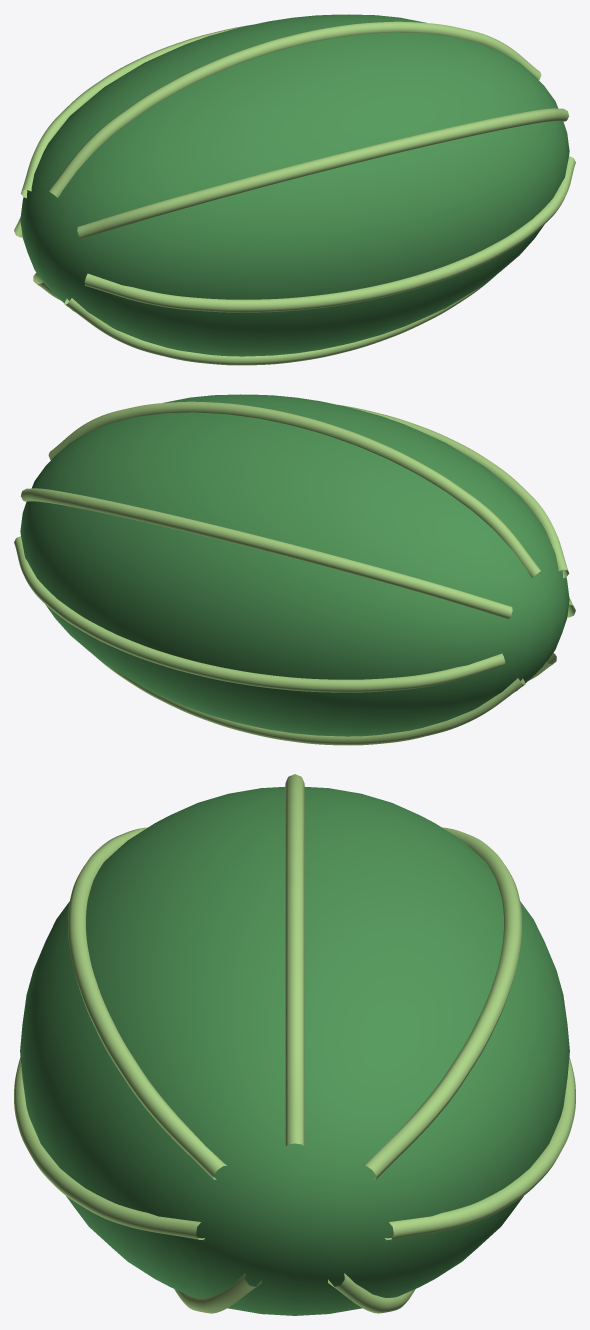
The model's file is watermelon.glb.
3 views of the same model, one above another, from view 1: azimuth 30°, elevation 25°; view 2: azimuth 150°, elevation 25°; view 3: azimuth 270°, elevation 25° (orthographic). The views are drawn at different scales.
Visible parts, largest first — view 1: Watermelon | oval fruit.001, Watermelon | pale rind stripe.010, Watermelon | pale rind stripe.007, Watermelon | pale rind stripe.012, Watermelon | pale rind stripe.008, Watermelon | pale rind stripe.013; view 2: Watermelon | oval fruit.001, Watermelon | pale rind stripe.009, Watermelon | pale rind stripe.013, Watermelon | pale rind stripe.012, Watermelon | pale rind stripe.011, Watermelon | pale rind stripe.007; view 3: Watermelon | oval fruit.001, Watermelon | pale rind stripe.007, Watermelon | pale rind stripe.013, Watermelon | pale rind stripe.012, Watermelon | pale rind stripe.009, Watermelon | pale rind stripe.010, Watermelon | pale rind stripe.008, Watermelon | pale rind stripe.011.
Part boxes in pixels (<box>): Watermelon | oval fruit.001: <box>20,14,569,356</box>; Watermelon | pale rind stripe.010: <box>84,156,575,312</box>; Watermelon | pale rind stripe.007: <box>77,108,568,239</box>; Watermelon | pale rind stripe.012: <box>48,21,541,197</box>; Watermelon | pale rind stripe.008: <box>64,275,495,365</box>; Watermelon | pale rind stripe.013: <box>20,25,250,198</box>; Watermelon | oval fruit.001: <box>20,394,569,736</box>; Watermelon | pale rind stripe.009: <box>14,536,505,692</box>; Watermelon | pale rind stripe.013: <box>21,488,512,619</box>; Watermelon | pale rind stripe.012: <box>48,401,541,577</box>; Watermelon | pale rind stripe.011: <box>94,655,525,745</box>; Watermelon | pale rind stripe.007: <box>339,405,569,578</box>; Watermelon | oval fruit.001: <box>20,787,569,1315</box>; Watermelon | pale rind stripe.007: <box>68,827,226,1179</box>; Watermelon | pale rind stripe.013: <box>363,827,521,1179</box>; Watermelon | pale rind stripe.012: <box>285,774,304,1147</box>; Watermelon | pale rind stripe.009: <box>385,1057,575,1240</box>; Watermelon | pale rind stripe.010: <box>14,1057,204,1240</box>; Watermelon | pale rind stripe.008: <box>174,1273,261,1313</box>; Watermelon | pale rind stripe.011: <box>328,1273,415,1313</box>.
Size of the model in its own units: 1.96 by 1.07 by 1.33.
